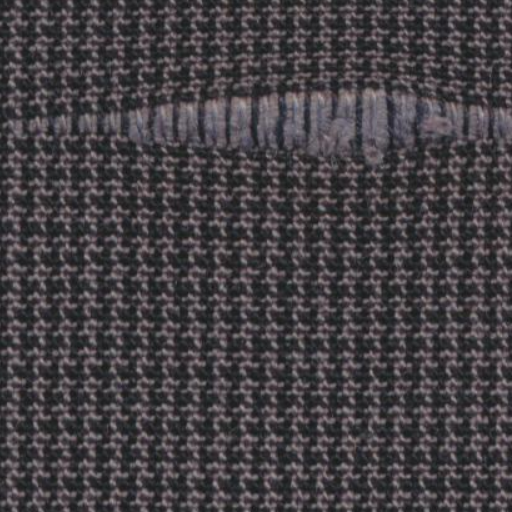DaiSha: (12, 72, 498, 163)
